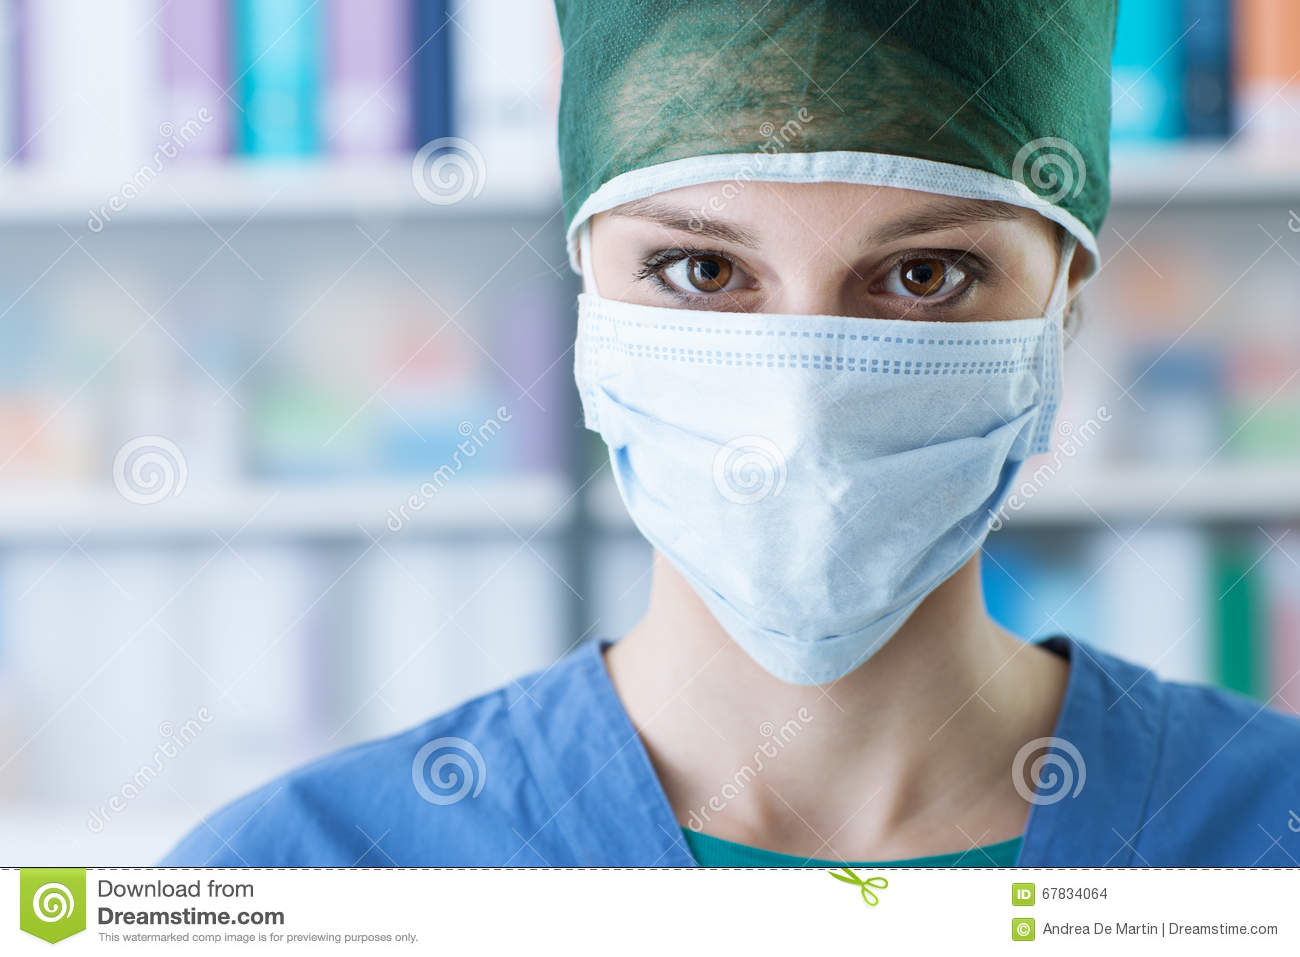mask: (553, 296, 1066, 660)
